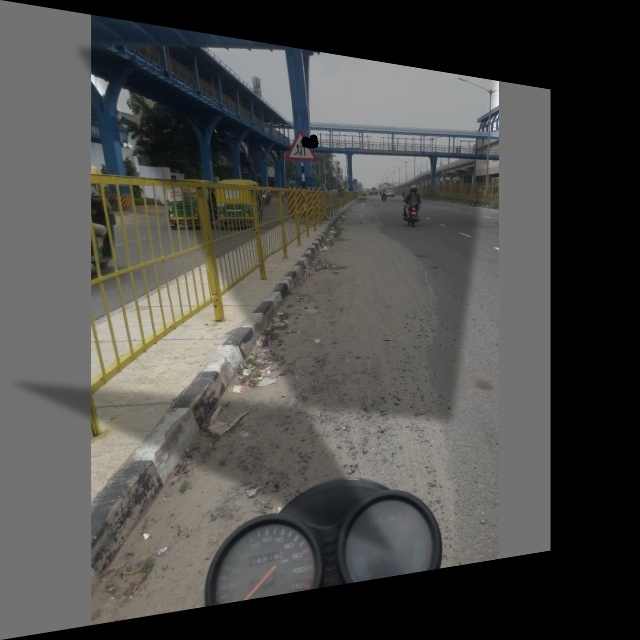Merge_Traffic_Ahead: (282, 120, 319, 165)
